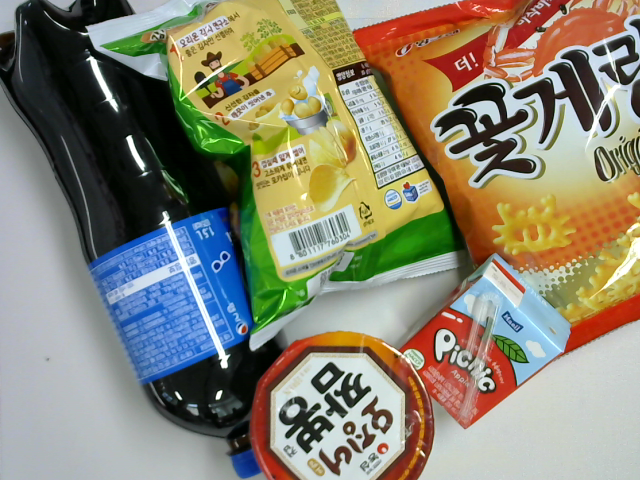Crabrang: (352, 1, 640, 362)
Ojjam: (249, 332, 437, 480)
Pepsi_Cola_1.5L: (1, 1, 296, 479)
Picnic_Apple: (400, 251, 572, 432)
Pocachip_Onion: (84, 1, 466, 350)
